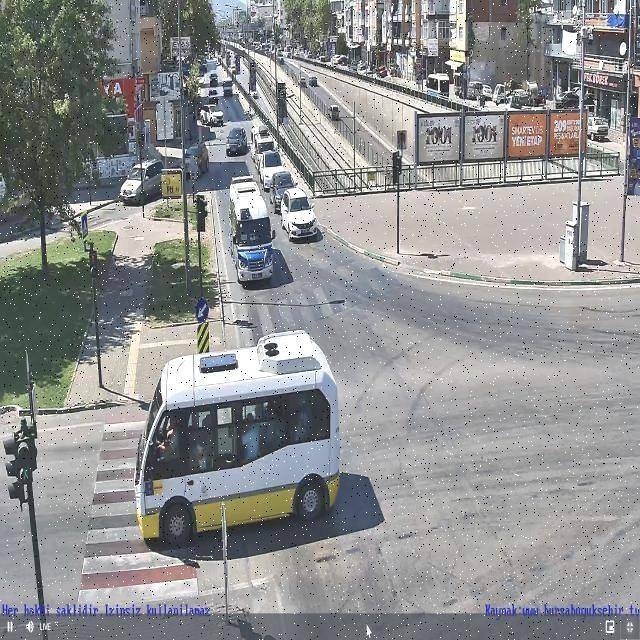Car: (119, 158, 165, 204), (281, 187, 319, 242), (256, 154, 289, 198), (266, 170, 296, 212), (228, 176, 262, 212), (183, 142, 210, 180), (250, 124, 276, 163), (226, 126, 248, 154), (586, 116, 610, 140), (198, 105, 223, 126), (222, 80, 234, 96), (328, 104, 340, 120), (206, 94, 219, 106), (308, 76, 318, 86), (299, 76, 308, 87), (209, 75, 218, 86), (250, 90, 259, 99), (282, 50, 292, 58), (208, 88, 218, 96)
Truck: (137, 331, 339, 544), (227, 182, 275, 282), (427, 73, 451, 97)
